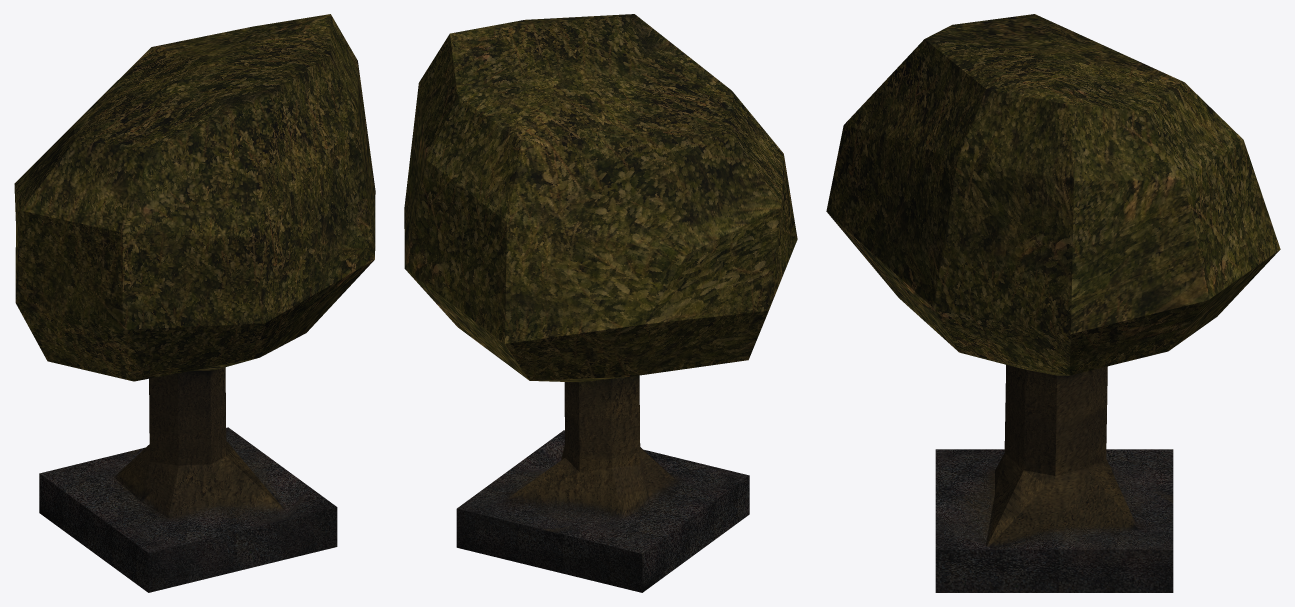
The model's file is BigLeafTree.glb.
The picture shows the model from 3 angles, left to right: view 1: azimuth 30°, elevation 25°; view 2: azimuth 150°, elevation 25°; view 3: azimuth 270°, elevation 25°; orthographic projection. The views are drawn at different scales.
Parts seen in each view (by area): view 1: Cube; view 2: Cube; view 3: Cube.
Boxes of the visible parts, <box> form: Cube: <box>14,14,375,592</box>; Cube: <box>404,14,797,592</box>; Cube: <box>826,14,1280,592</box>.
Size of the model in its own units: 3.91 by 4.81 by 3.82.
1 material, 1 textured.
